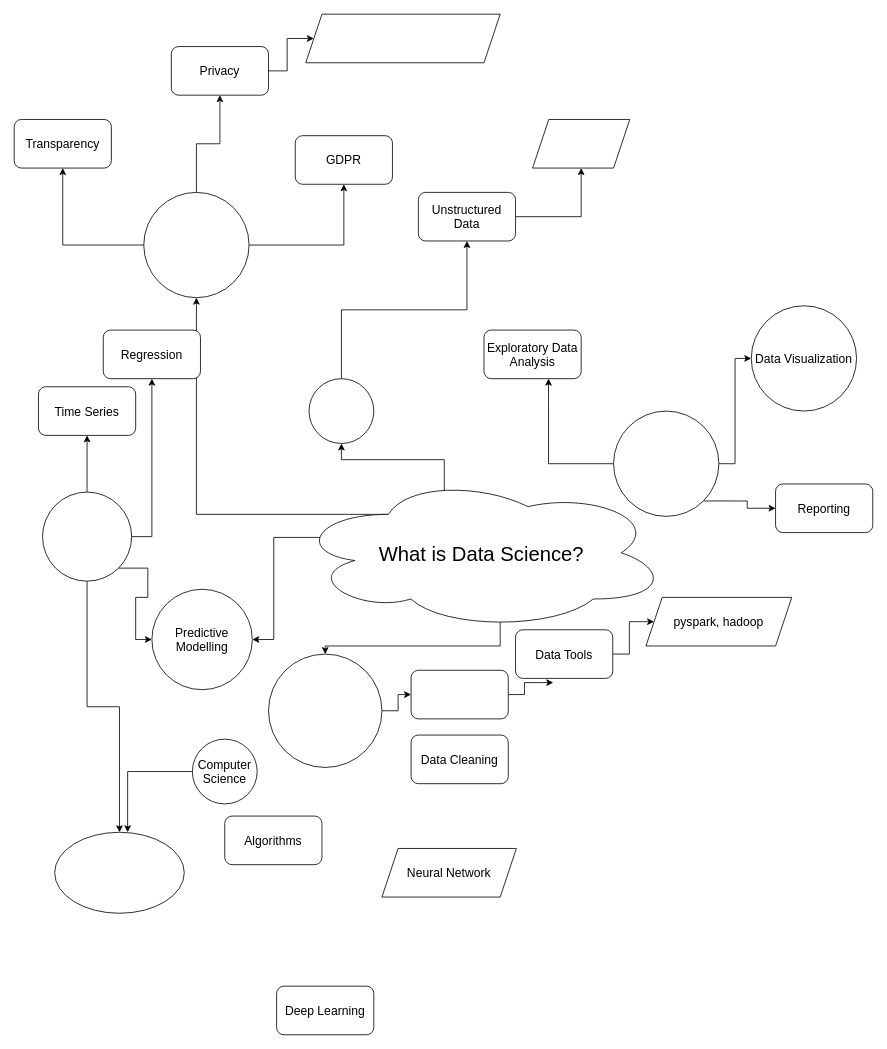
This 887x1049 diagram has some shape labels left out. The centre of each missing label's shape, as x and y in pixels:
Big Data: pixel 341 410
Data Analytics: pixel 666 463
Data Engineering: pixel 325 710
Data Ethics & Governance: pixel 196 245
Data Pipelines: pixel 459 694
Machine Learning: pixel 119 872
PPI (Personal Protected Information): pixel 402 38
Statistics: pixel 87 536
Text: pixel 581 143
